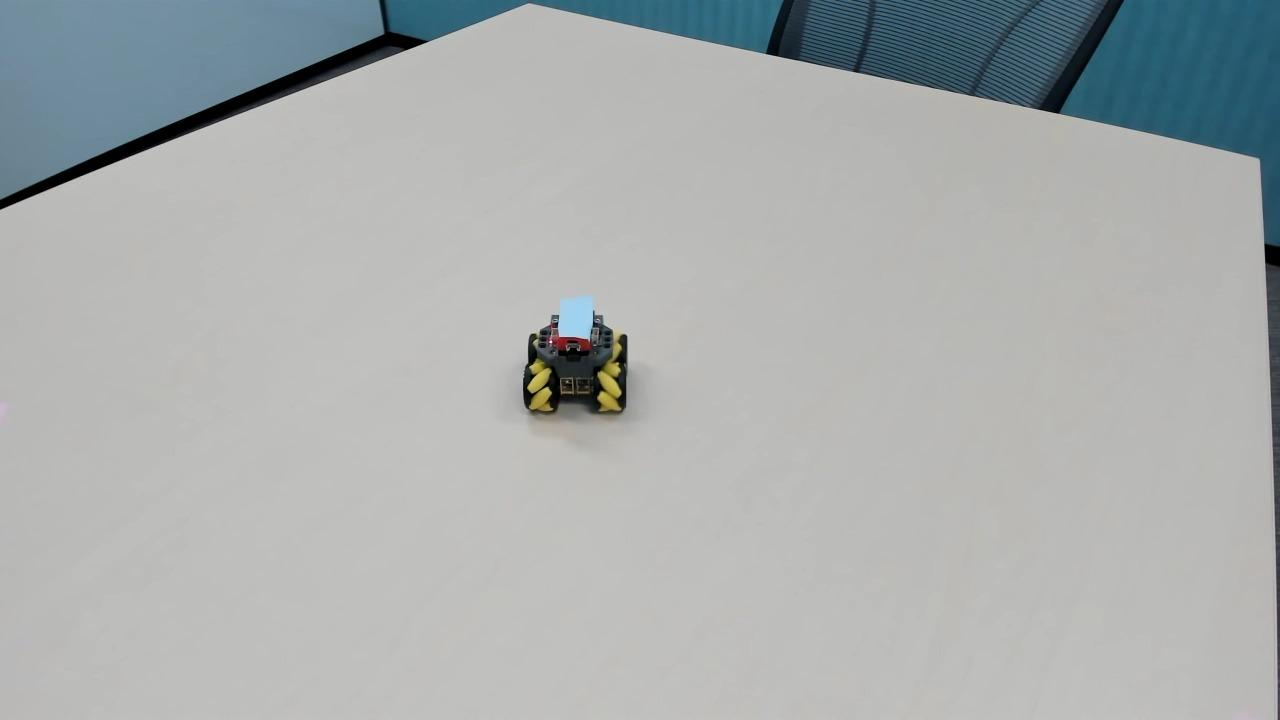B-Robot: (500, 283, 652, 446)
